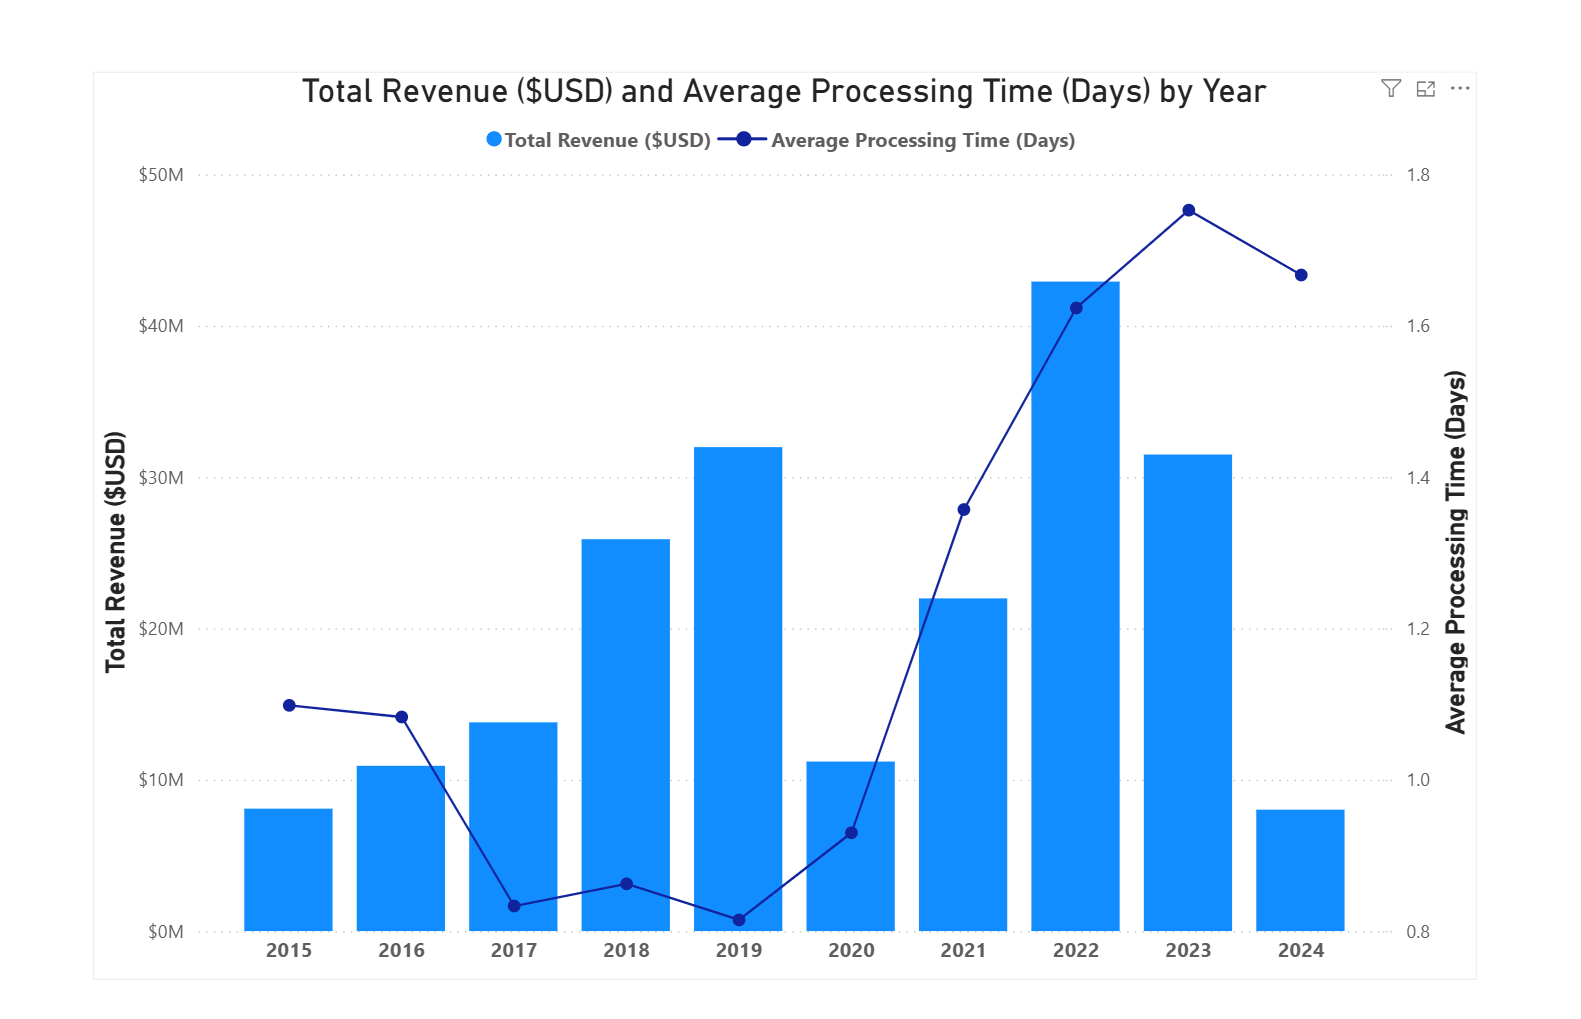

The dashboard page shown, as its layout file describes it:
{"tool":"powerbi","page":{"name":"revenue_processing_time","canvas":[1280,720],"ordinal":1},"visuals":[{"type":"lineClusteredColumnComboChart","fields":{"Category":["public vw_processing_efficiency.year"],"Y":["Sum(public vw_processing_efficiency.total_revenue)"],"Y2":["Sum(public vw_processing_efficiency.avg_processing_time)"]},"box":[203.1,64.7,908.4,596.4],"z":0}]}

Visuals, with their boxes on the page's 1280x720 design canvas (x1, y1, x2, y2). These are canvas units, not pixel positions in the 1581x1019 screenshot, which may show the page scaled, cropped or inside an application window:
lineClusteredColumnComboChart - public vw_processing_efficiency.year x Sum(public vw_processing_efficiency.total_revenue): <region>203, 65, 1112, 661</region>
